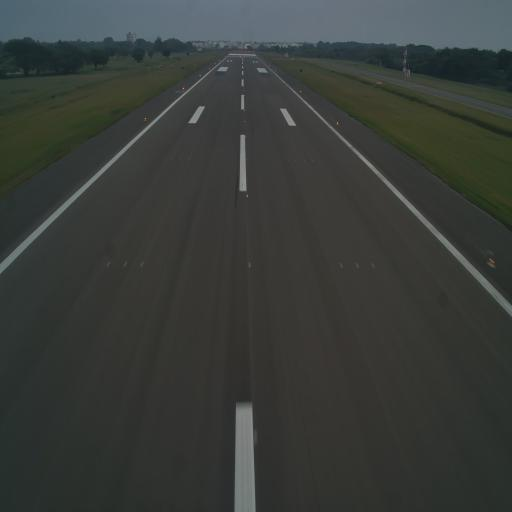off: (368, 256, 376, 271), (122, 258, 130, 270), (354, 260, 361, 272), (105, 260, 112, 270), (139, 258, 145, 269), (338, 260, 343, 272), (168, 154, 174, 162), (177, 155, 182, 164), (187, 155, 192, 164), (302, 157, 307, 165), (310, 156, 315, 164), (244, 156, 249, 164), (294, 156, 298, 164)
on: (486, 252, 496, 270), (247, 258, 253, 270), (244, 191, 250, 199), (244, 133, 248, 140), (142, 116, 147, 121), (336, 121, 340, 127)
